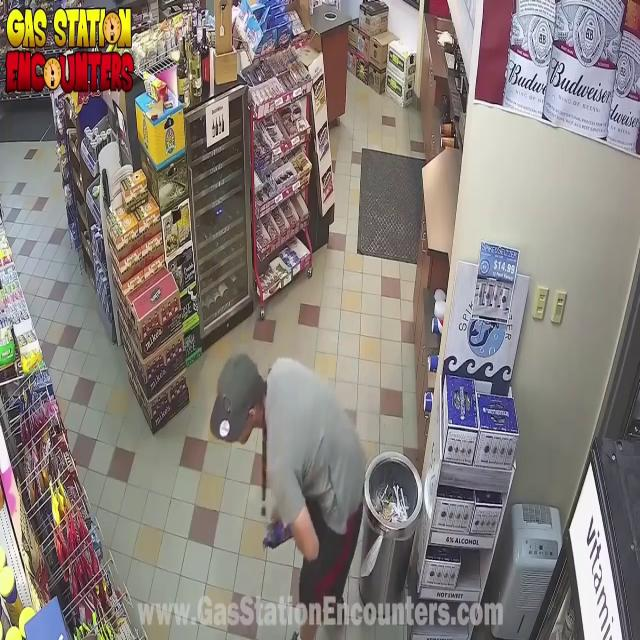Product: (259, 511, 295, 559)
shoplifting: (189, 290, 374, 640)
